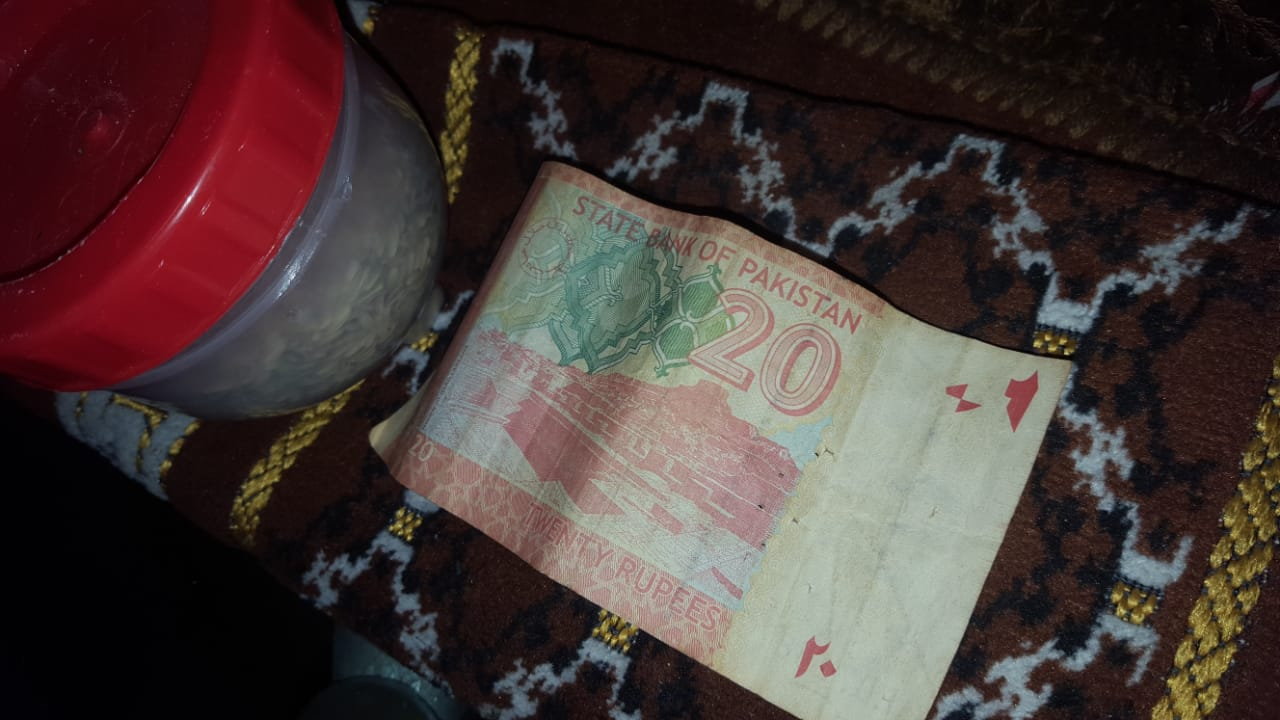20 rupee: (372, 179, 1089, 700)
